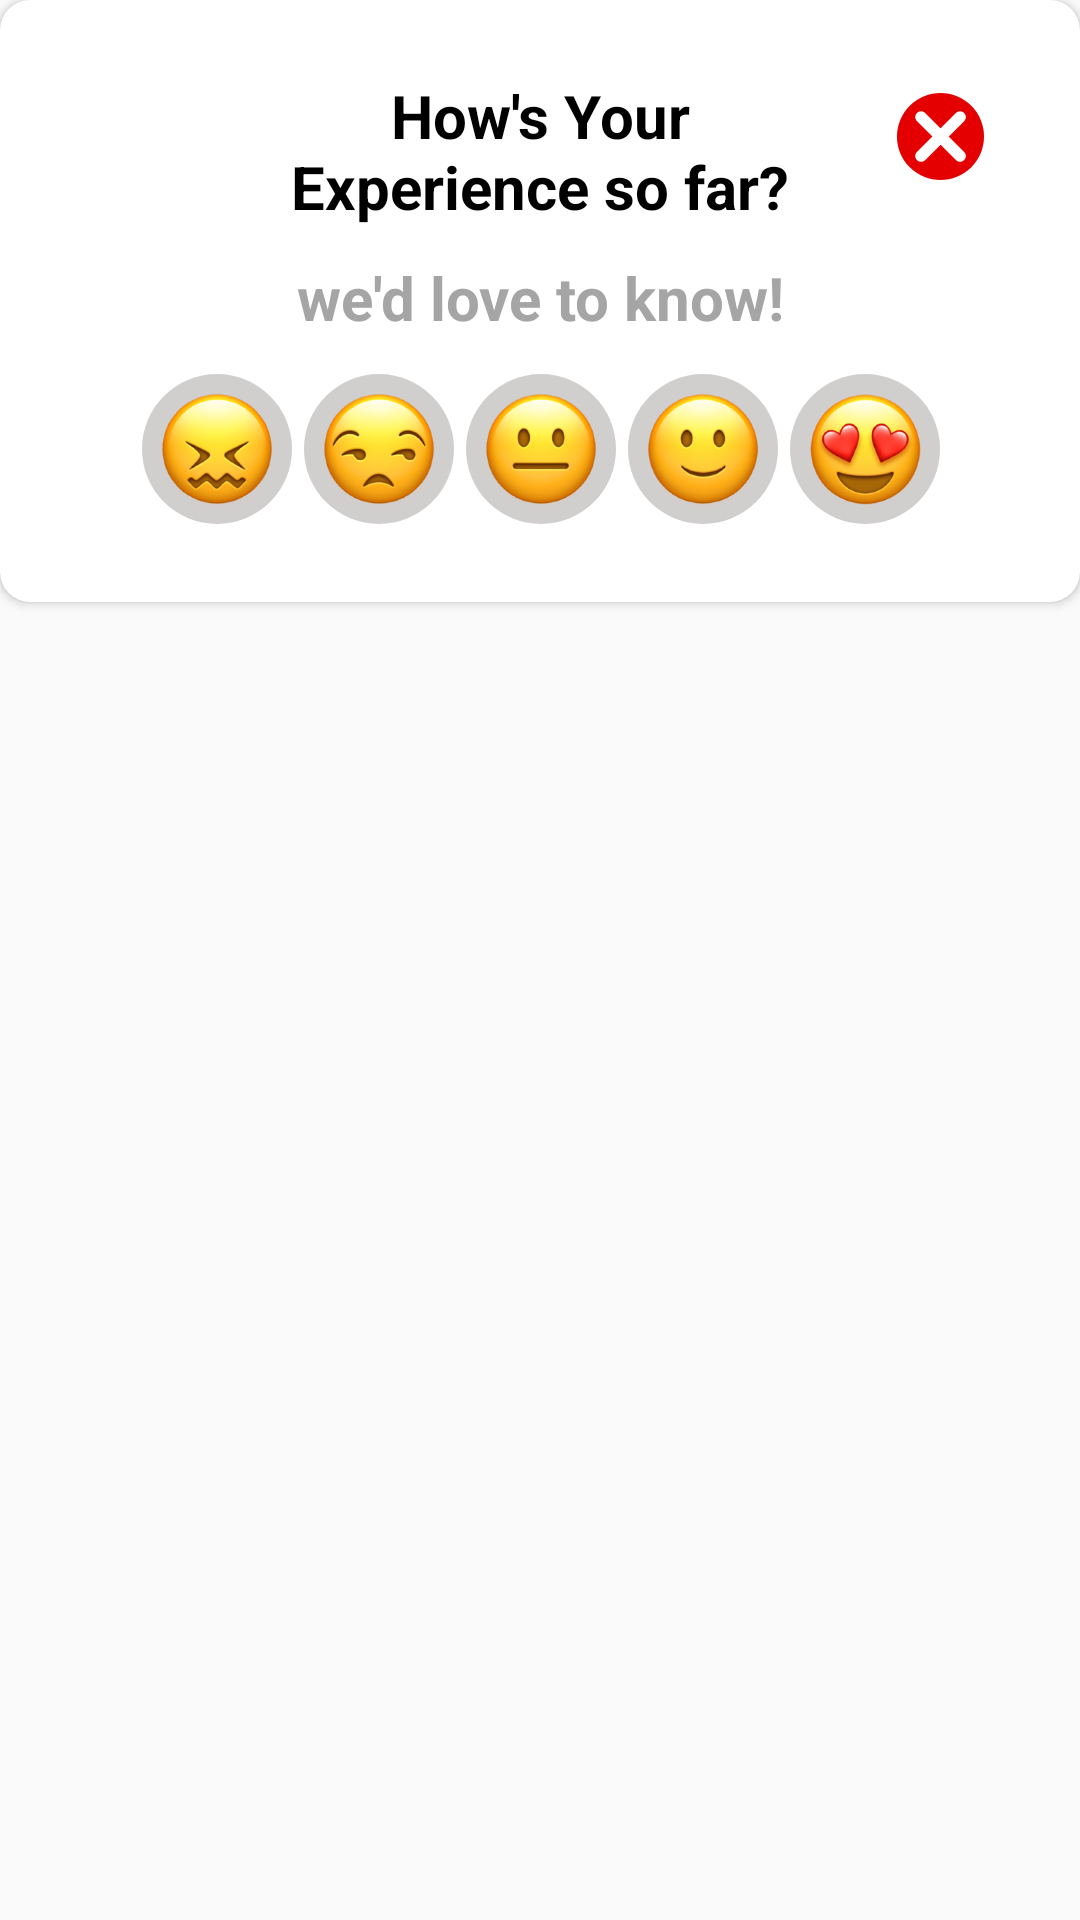

Where to tap for icons on this 1080w x 1920h app screen, as [x,y]:
close: [940,136]
